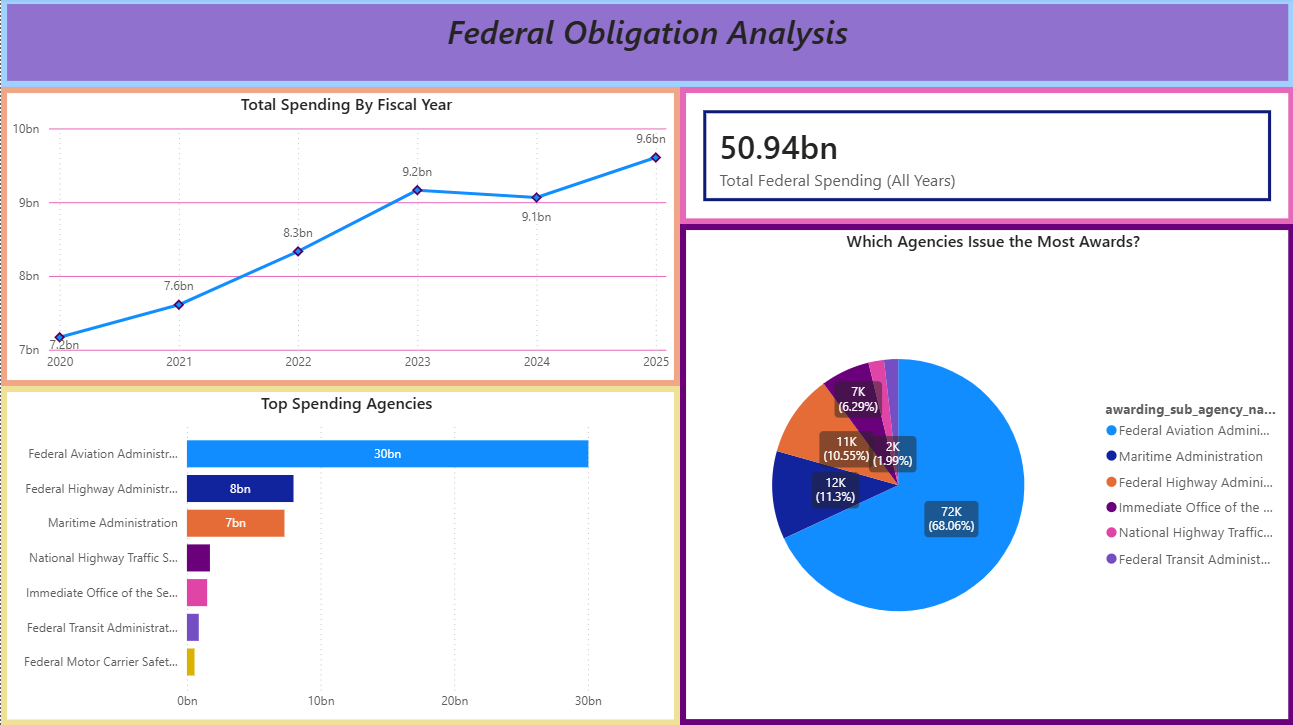

Layout of this report page (visuals, bound fields, positions):
{"tool":"powerbi","page":{"name":"Agency Spending Overview","canvas":[1280,720],"ordinal":0},"visuals":[{"type":"textbox","box":[0,0,1280,88],"z":0},{"type":"lineChart","title":"Total Spending By Fiscal Year","fields":{"Category":["vw_TotalSpending_ByFiscalYear.action_date_fiscal_year"],"Y":["Sum(vw_TotalSpending_ByFiscalYear.total_spending)"]},"box":[0,88,672,296],"z":1000},{"type":"barChart","title":"Top Spending Agencies","fields":{"Category":["vw_TopAgencies_Spending.awarding_sub_agency_name"],"Y":["Sum(vw_TopAgencies_Spending.total_spending)"],"Series":["vw_TopAgencies_Spending.awarding_sub_agency_name"]},"box":[0,384,672,336],"z":2000},{"type":"cardVisual","title":"Total Federal Spending (All Years)","fields":{"Data":["Sum(vw_TotalSpending_ByFiscalYear.total_spending)"]},"box":[672,88,608,136],"z":3000},{"type":"pieChart","title":"Which Agencies Issue the Most Awards?","fields":{"Category":["vw_Awards_PerSubAgency.awarding_sub_agency_name"],"Y":["Sum(vw_Awards_PerSubAgency.TransactionCount)"]},"box":[672,224,608,496],"z":4000}]}

Visuals, with their boxes in screenshot pixels (x1, y1, x2, y2), scaled from the page's 1280x720 canvas onto the 1293x725 screenshot:
textbox: pyautogui.locateOnScreen(0, 0, 1292, 89)
"Total Spending By Fiscal Year" lineChart: pyautogui.locateOnScreen(0, 89, 679, 387)
"Top Spending Agencies" barChart: pyautogui.locateOnScreen(0, 387, 679, 724)
"Total Federal Spending (All Years)" cardVisual: pyautogui.locateOnScreen(679, 89, 1292, 226)
"Which Agencies Issue the Most Awards?" pieChart: pyautogui.locateOnScreen(679, 226, 1292, 724)
